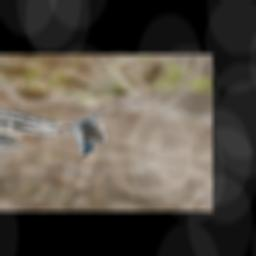Swallow: (43, 99, 130, 161)
